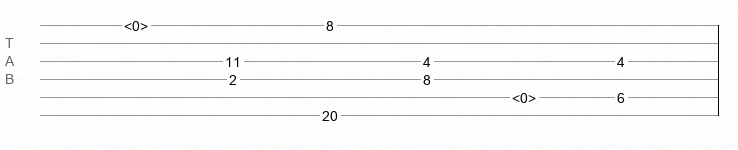11: (225, 54, 241, 64)
2: (229, 72, 237, 82)
20: (322, 108, 338, 118)
4: (423, 54, 431, 64), (617, 54, 625, 64)
6: (617, 90, 625, 100)
8: (326, 18, 334, 28), (423, 72, 431, 82)
harmonic: (124, 18, 148, 28), (512, 90, 536, 100)
